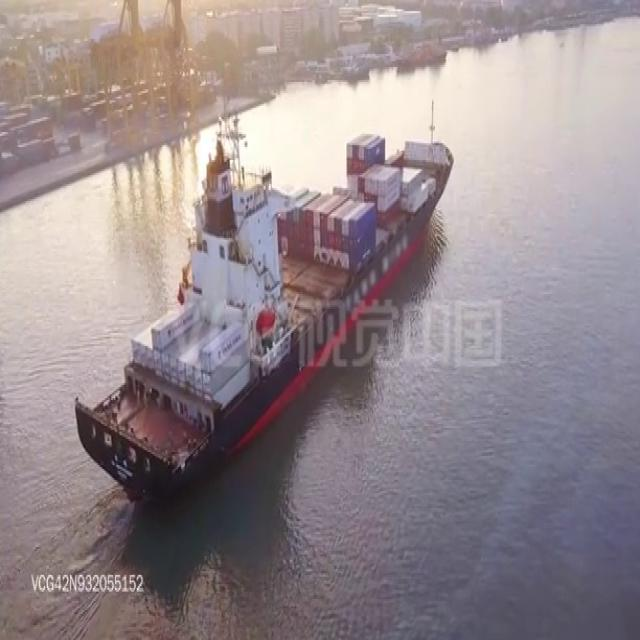cargoship: (67, 123, 451, 504)
